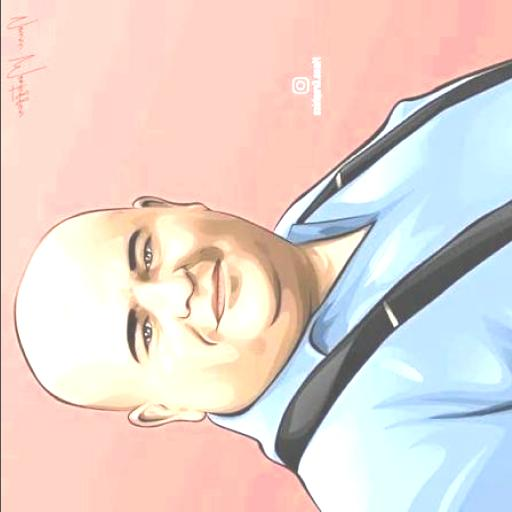sboui: (16, 205, 298, 420)
